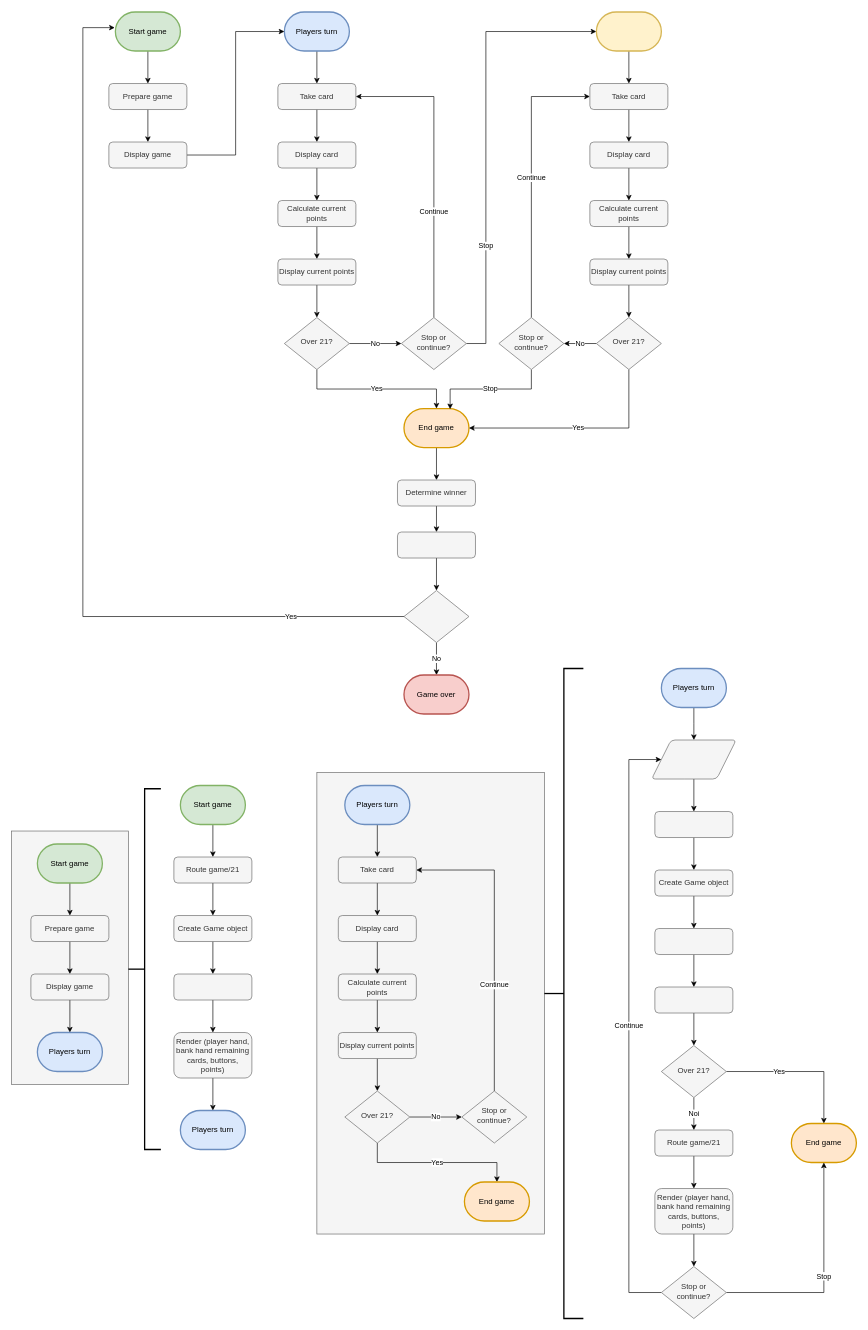
This 868x1330 diagram has some shape labels left out. The box of each missing label's shape, as (x1, y1, x2, y2) in pixels:
Banks turn: (595, 11, 662, 51)
Display scoreboard: (397, 531, 475, 558)
Game:: CalculatePoints(): (654, 986, 733, 1013)
Game::deal(): (654, 928, 733, 955)
Game::shuffle(): (173, 973, 252, 1000)
POST: (654, 811, 733, 838)
Start new game?: (403, 590, 469, 643)
User presses take card button: (651, 739, 736, 779)
